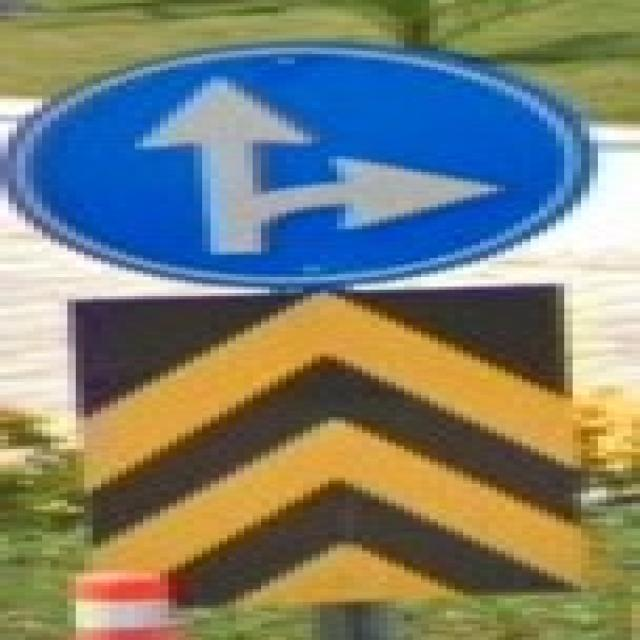Straight or Right: (22, 49, 561, 281)
